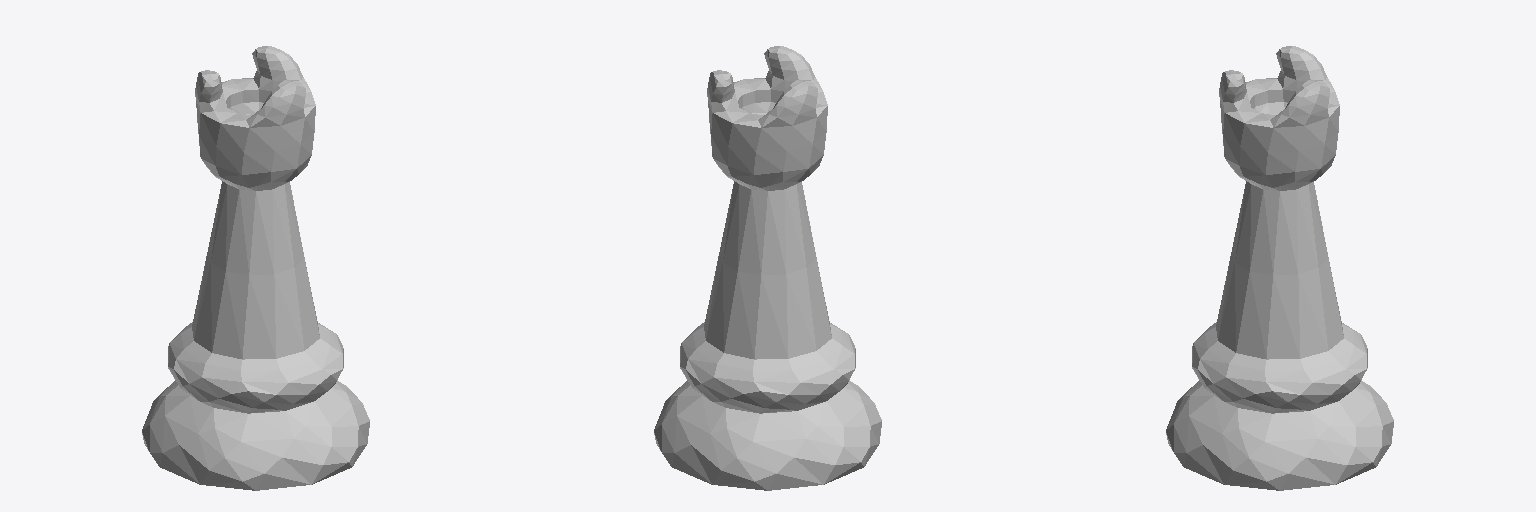
File: Torre.obj
The picture shows the model from 3 angles: view 1: azimuth 30°, elevation 25°; view 2: azimuth 150°, elevation 25°; view 3: azimuth 270°, elevation 25°; orthographic projection.
Parts seen in each view (by area): view 1: Rook.001; view 2: Rook.001; view 3: Rook.001.
Part boxes in pixels (x1,y1,x2,y2): Rook.001: (142, 46, 369, 490); Rook.001: (654, 46, 881, 490); Rook.001: (1166, 46, 1393, 490).
Size of the model in its own units: 2.27 by 4.09 by 2.25.